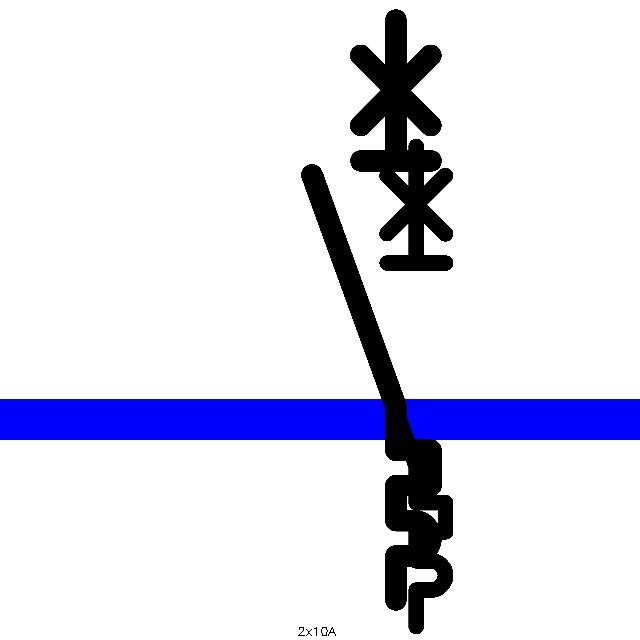interruptor_termomagnetico: (297, 5, 446, 615), (334, 134, 458, 639)
